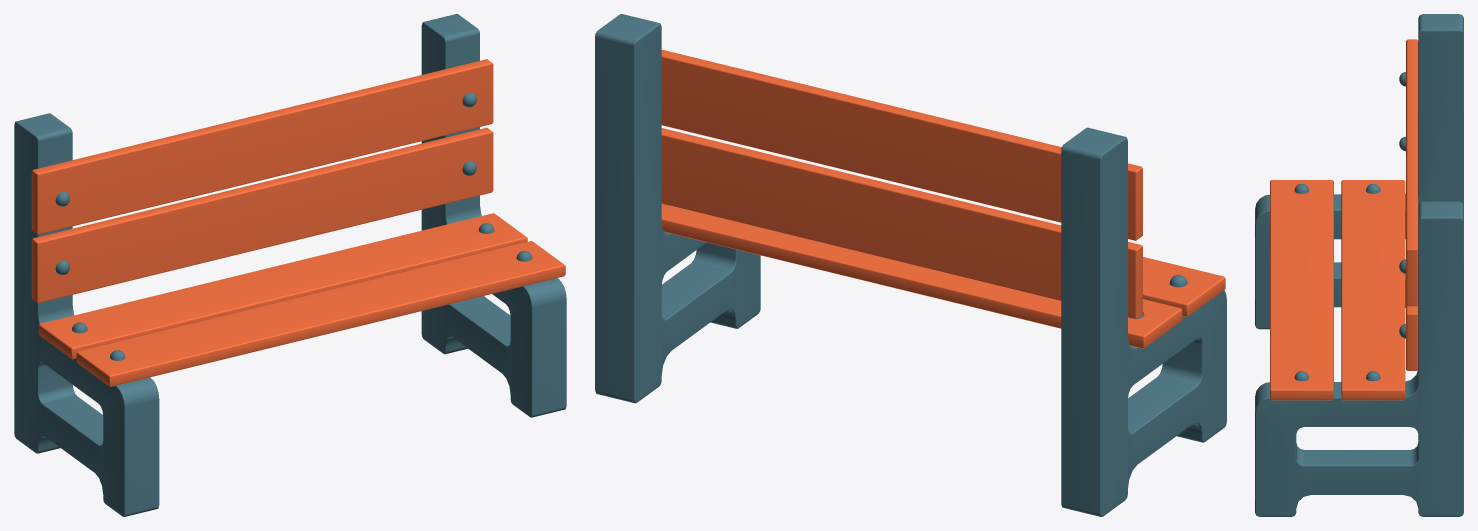
The model's file is City_12_Bench_1.glb.
3 views of the same model, side by side, from view 1: azimuth 30°, elevation 25°; view 2: azimuth 150°, elevation 25°; view 3: azimuth 270°, elevation 25° (orthographic). The views are drawn at different scales.
Parts seen in each view (by area): view 1: City_12_Bench_1; view 2: City_12_Bench_1; view 3: City_12_Bench_1.
Part boxes in pixels (x1,y1,x2,y2): City_12_Bench_1: (14, 14, 566, 516); City_12_Bench_1: (595, 14, 1226, 516); City_12_Bench_1: (1255, 14, 1463, 516).
Bounding box in the file's own units: 1.86 × 1.23 × 0.7795.
1 material, 1 textured.
